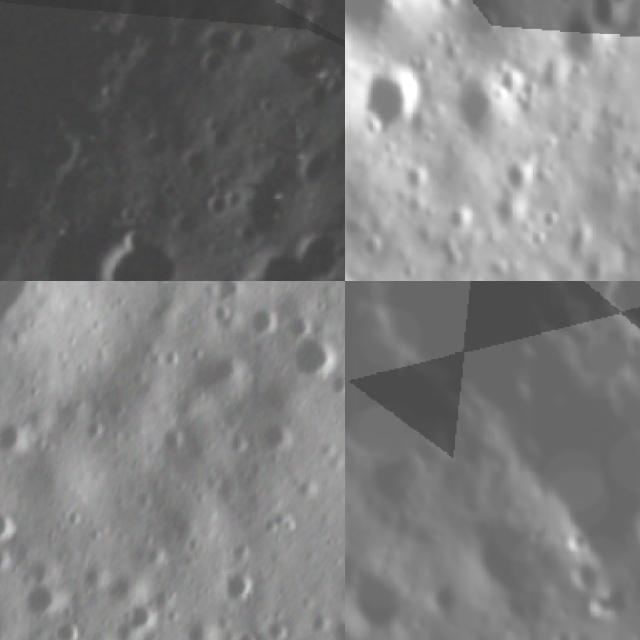crater: (0, 0, 200, 225), (463, 508, 541, 600), (355, 60, 431, 154), (345, 560, 418, 640), (552, 0, 612, 84), (98, 228, 190, 281), (0, 281, 53, 369), (448, 71, 508, 139), (345, 0, 425, 44), (281, 324, 342, 381), (297, 224, 345, 281), (584, 0, 640, 45), (291, 144, 337, 198), (254, 412, 304, 456), (498, 148, 542, 197), (238, 252, 304, 281), (244, 298, 286, 341), (19, 581, 64, 620), (214, 571, 260, 607), (0, 409, 32, 454), (442, 207, 480, 241), (401, 160, 435, 198), (119, 600, 157, 634), (558, 525, 597, 558), (206, 187, 243, 221), (570, 558, 608, 591), (0, 495, 22, 549), (282, 307, 314, 343), (195, 52, 231, 83), (208, 297, 238, 330), (262, 612, 296, 640), (301, 606, 332, 636), (154, 421, 183, 452), (322, 365, 345, 402), (48, 615, 82, 640), (361, 233, 389, 262), (77, 416, 106, 443), (209, 281, 246, 301), (539, 204, 564, 233), (0, 544, 19, 581), (625, 152, 640, 197), (227, 625, 262, 640), (542, 626, 579, 640), (625, 330, 640, 363), (530, 225, 549, 251), (0, 608, 15, 640), (329, 613, 345, 640)
